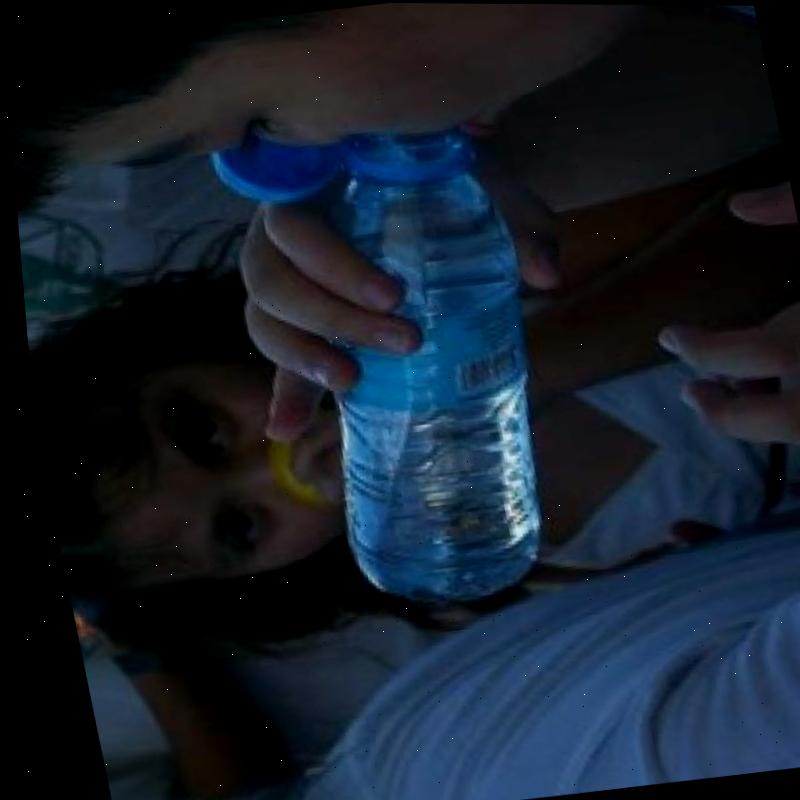botella: (260, 120, 577, 616)
